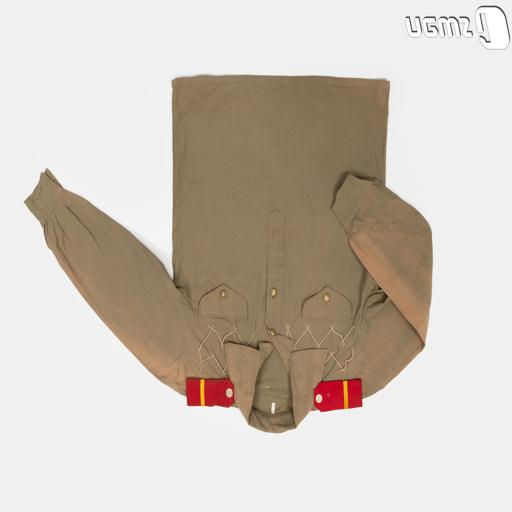north army: (29, 30, 454, 448)
